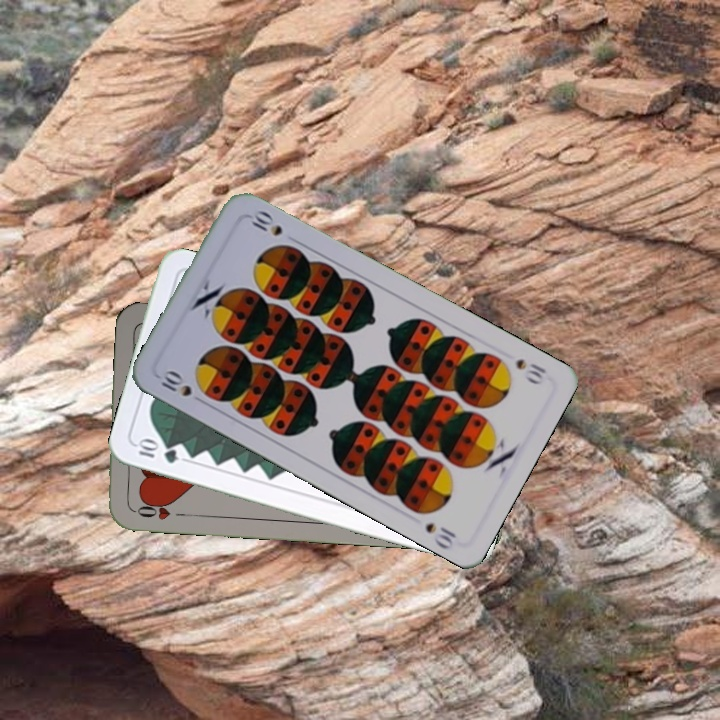G10: (132, 436, 181, 466)
HO: (129, 496, 188, 522)
S10: (154, 366, 208, 407), (511, 354, 549, 387)
